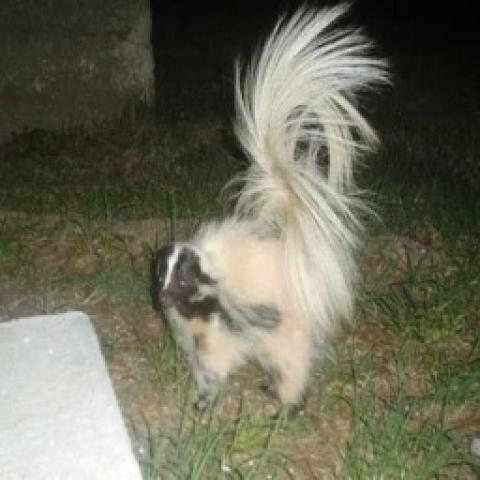small_animal: (144, 16, 392, 420)
